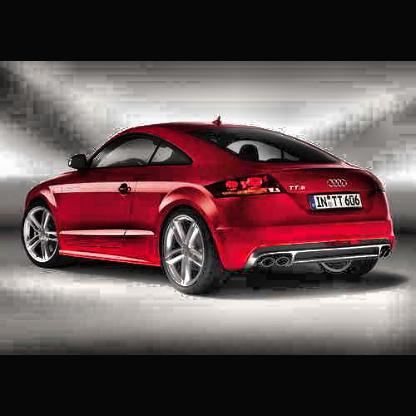Audi TT Hatchback 2011: (24, 117, 399, 297)
